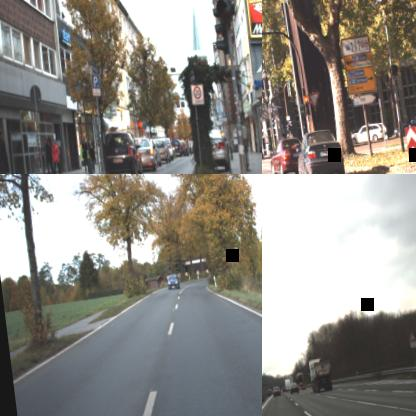give way: (306, 90, 321, 110)
speed limit 20: (192, 84, 202, 98)
uneven road: (407, 329, 416, 342)
